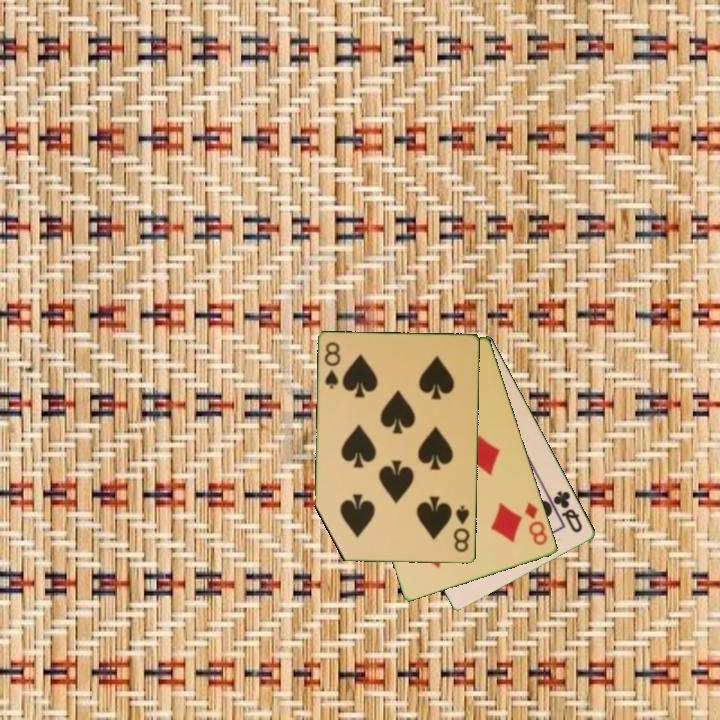8d: (521, 499, 551, 548)
8s: (450, 502, 472, 555), (321, 339, 343, 392)
Qc: (550, 487, 586, 536)
